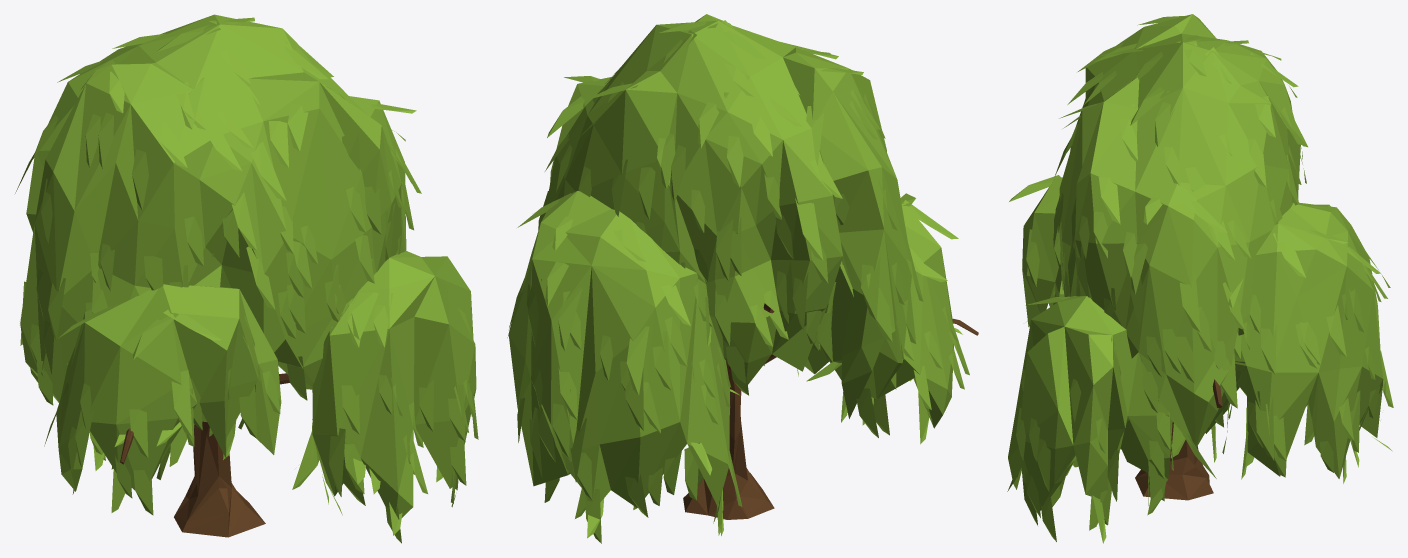
File: tree-willow-weeping-mature-a.gltf
3 renders of one model, left to right at view 1: azimuth 30°, elevation 25°; view 2: azimuth 150°, elevation 25°; view 3: azimuth 270°, elevation 25°, orthographic. The views are drawn at different scales.
Parts seen in each view (by area): view 1: tree-willow-weeping-mature-a; view 2: tree-willow-weeping-mature-a; view 3: tree-willow-weeping-mature-a.
Boxes of the visible parts, <box> form: tree-willow-weeping-mature-a: <box>15,14,478,543</box>; tree-willow-weeping-mature-a: <box>507,14,978,543</box>; tree-willow-weeping-mature-a: <box>1007,14,1393,543</box>.
Bounding box in the file's own units: 0.0711 × 0.0827 × 0.0654.
